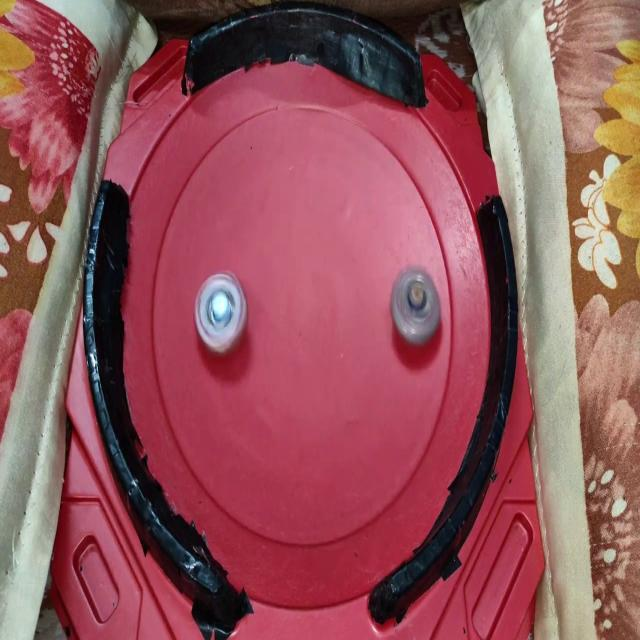Beyblade: (196, 272, 246, 354), (389, 266, 441, 343)
